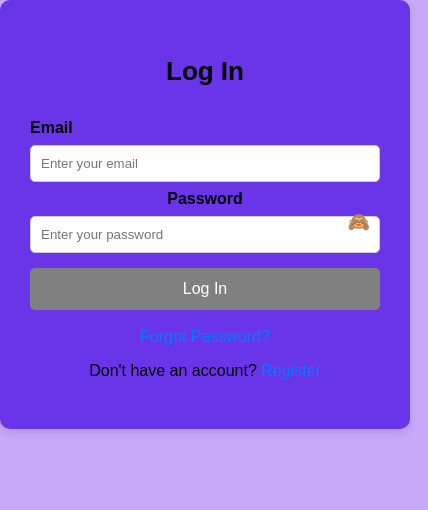
Test: LogInForm Component › enables the submit button with valid inputs
Type "valid@email.com" into the field with placeholder "Enter your email" at coordinates (205, 163), box [30, 145, 380, 182]
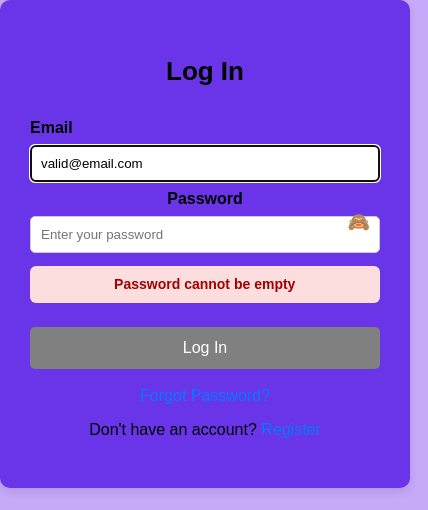
Type "validPassword123" into the password field with placeholder "Enter your password" at coordinates (205, 234), box [30, 216, 380, 253]
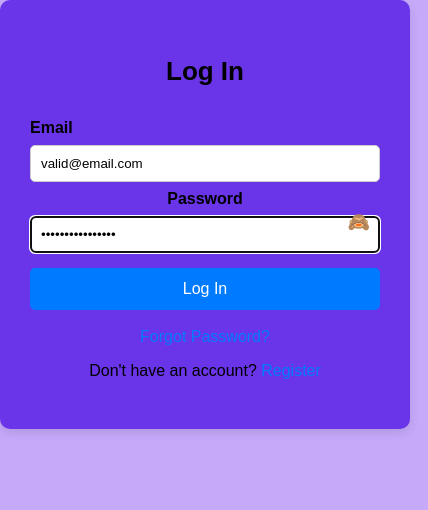
Expected: the button "Log In" is enabled, [30, 268, 380, 310]
